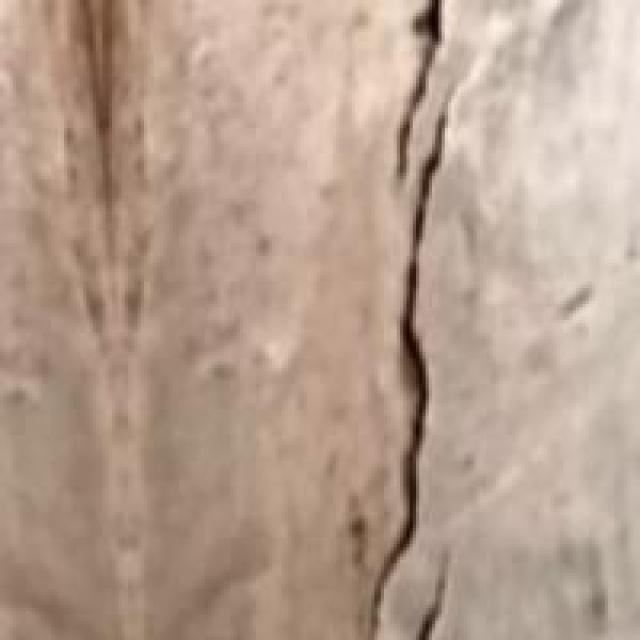Crack: (307, 0, 508, 630)
